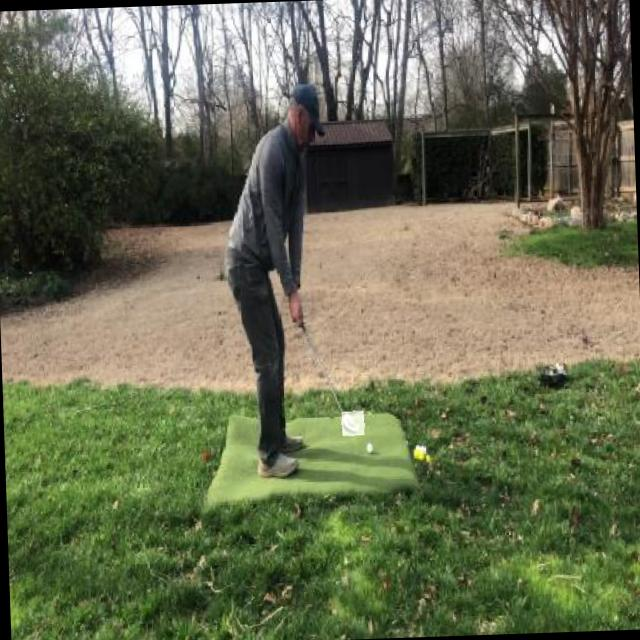club head: (341, 410, 364, 436)
